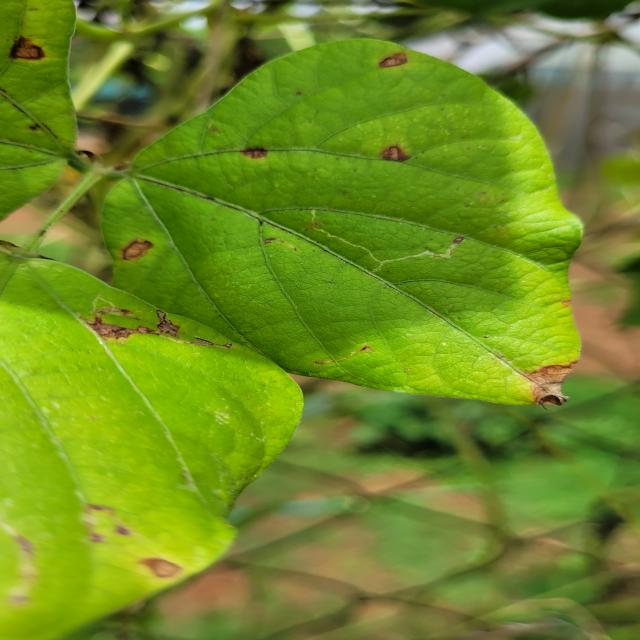Dolicos bean_cercospora leaf spot: (85, 39, 585, 408)
